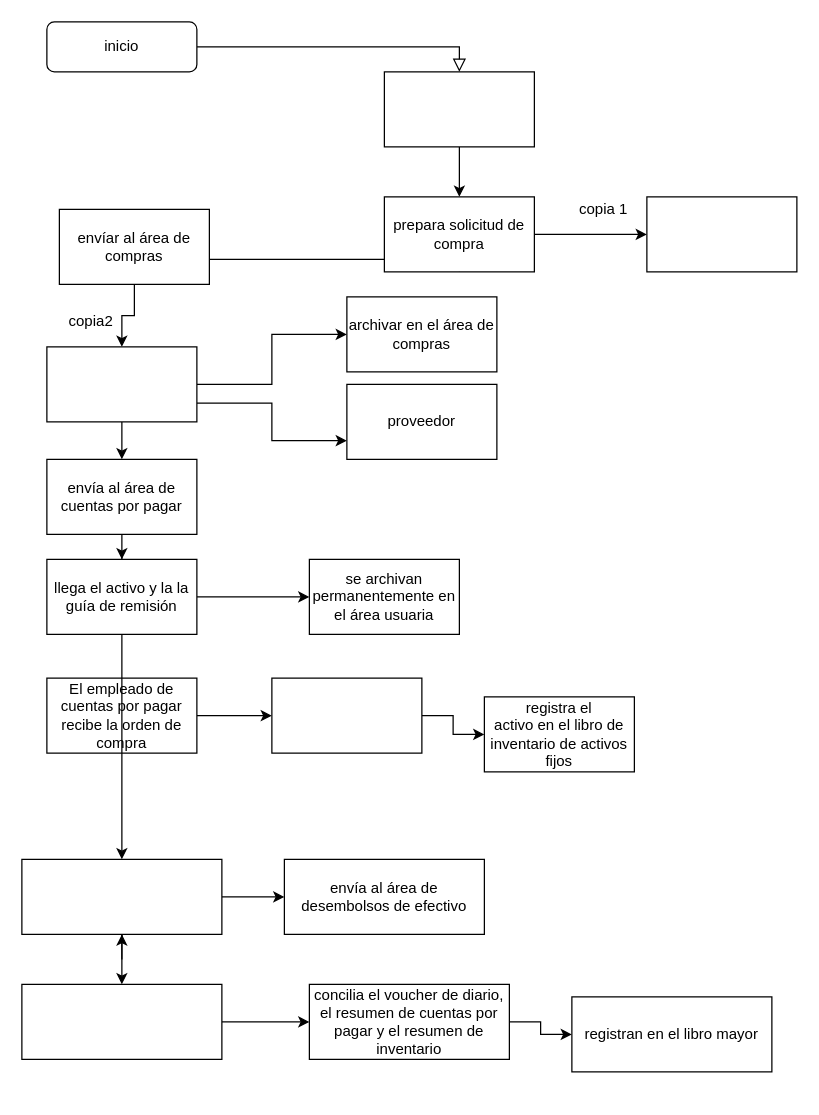
The diagram is 819 pixels wide and 1115 high, and some of its shapes have lost their labels. Here are the shapes that lost their labels. From the top down, the centre of each, then its label:
[458,109]: reconoce la necesidad de obtener un activo fijo
[721,234]: archivar
[121,384]: solicitud de compra
[346,715]: concilia con la orden de compra registrada
[121,896]: el empleado imprime un voucher de desembolsos de efectivo
[121,1021]: resúmenes de cuentas para las cuentas por pagar y el inventario de activos fijos
